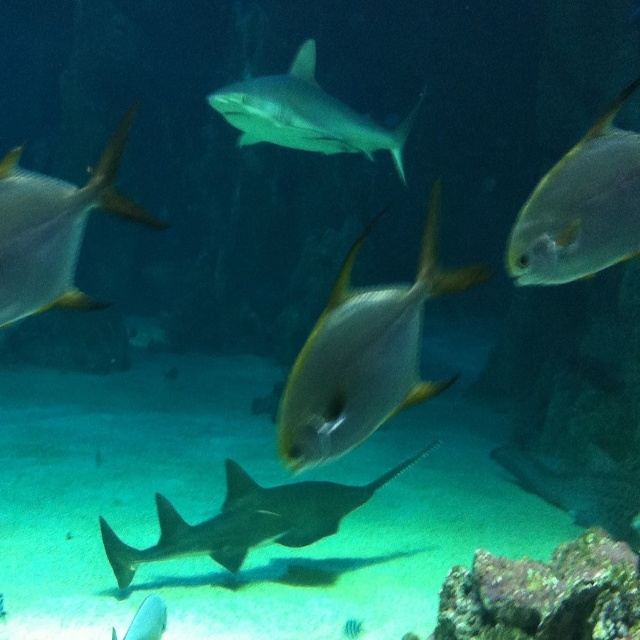Shark: (207, 34, 425, 189)
